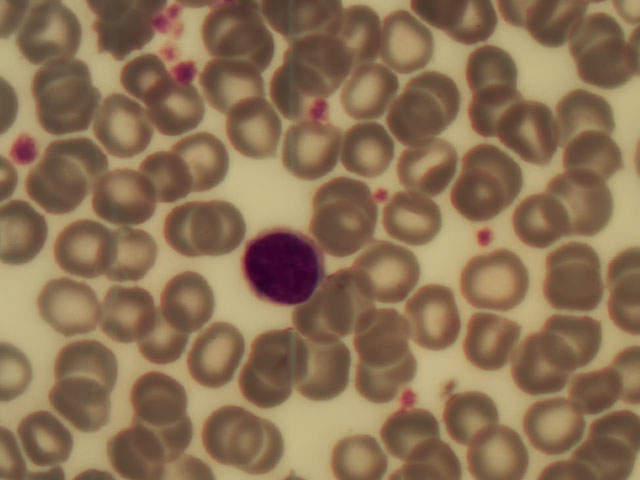Platelets: (7, 135, 39, 164), (155, 12, 181, 42), (169, 57, 199, 81), (309, 95, 331, 123), (478, 221, 494, 247), (372, 186, 395, 204), (400, 386, 415, 408)
RBC: (30, 44, 97, 107), (34, 76, 101, 139), (86, 93, 153, 156), (45, 125, 112, 188), (18, 152, 85, 215), (48, 214, 115, 277), (94, 219, 161, 282), (91, 164, 158, 227), (121, 149, 188, 212), (167, 126, 234, 189), (148, 82, 215, 145), (103, 43, 170, 106), (200, 51, 267, 114), (214, 20, 281, 83), (194, 1, 261, 64), (262, 44, 329, 107), (282, 31, 349, 94), (327, 4, 394, 67), (369, 6, 436, 69), (339, 58, 406, 121), (274, 123, 341, 186), (224, 90, 291, 153), (193, 198, 260, 261), (161, 203, 228, 266), (164, 259, 231, 322), (131, 304, 198, 367), (95, 282, 162, 345), (32, 274, 99, 337), (52, 324, 119, 387), (48, 369, 115, 432), (16, 402, 83, 465), (118, 360, 185, 423), (127, 400, 194, 463), (105, 417, 172, 480), (191, 400, 258, 463), (233, 413, 300, 476), (177, 319, 244, 382), (230, 350, 297, 413), (252, 323, 319, 386), (291, 340, 358, 403), (289, 293, 356, 356), (327, 265, 394, 328), (359, 238, 426, 301), (314, 200, 381, 263), (304, 164, 371, 227), (332, 116, 399, 179), (377, 84, 444, 147), (408, 60, 475, 123), (457, 34, 524, 97), (463, 76, 530, 139), (493, 97, 560, 160), (548, 81, 615, 144), (562, 127, 629, 190), (548, 172, 615, 235), (508, 192, 575, 255), (459, 252, 526, 315), (412, 282, 479, 345), (355, 301, 422, 364), (344, 338, 411, 401), (456, 309, 523, 372), (503, 334, 570, 397), (540, 304, 607, 367), (542, 266, 609, 329), (543, 222, 610, 285), (563, 361, 630, 424), (525, 389, 592, 452), (463, 417, 530, 480), (440, 382, 507, 445), (377, 399, 444, 462), (14, 1, 81, 62), (1, 202, 47, 264), (332, 433, 388, 480), (568, 6, 624, 53), (577, 48, 633, 95), (522, 1, 578, 46)
WBC: (244, 222, 322, 310)
